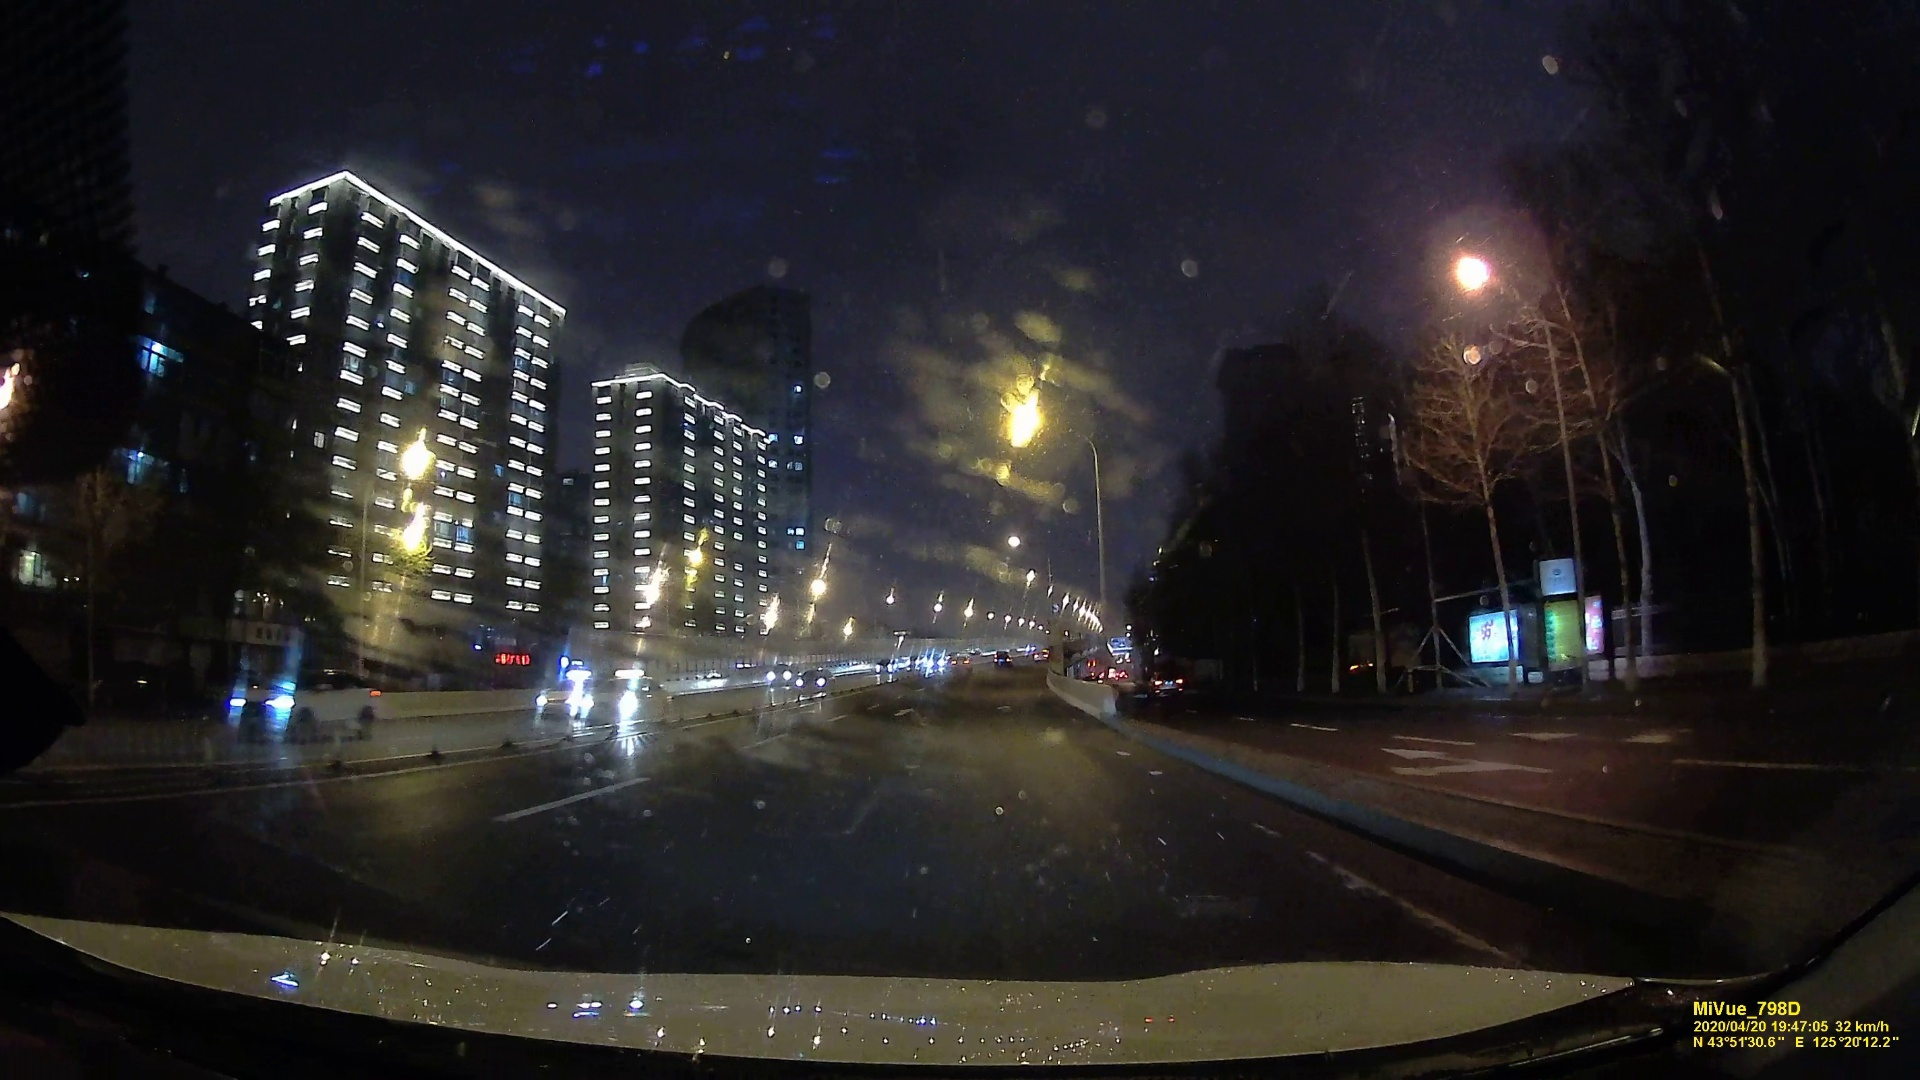vehicle: (229, 665, 380, 742), (579, 673, 666, 720), (1146, 669, 1184, 698), (795, 669, 833, 694)
